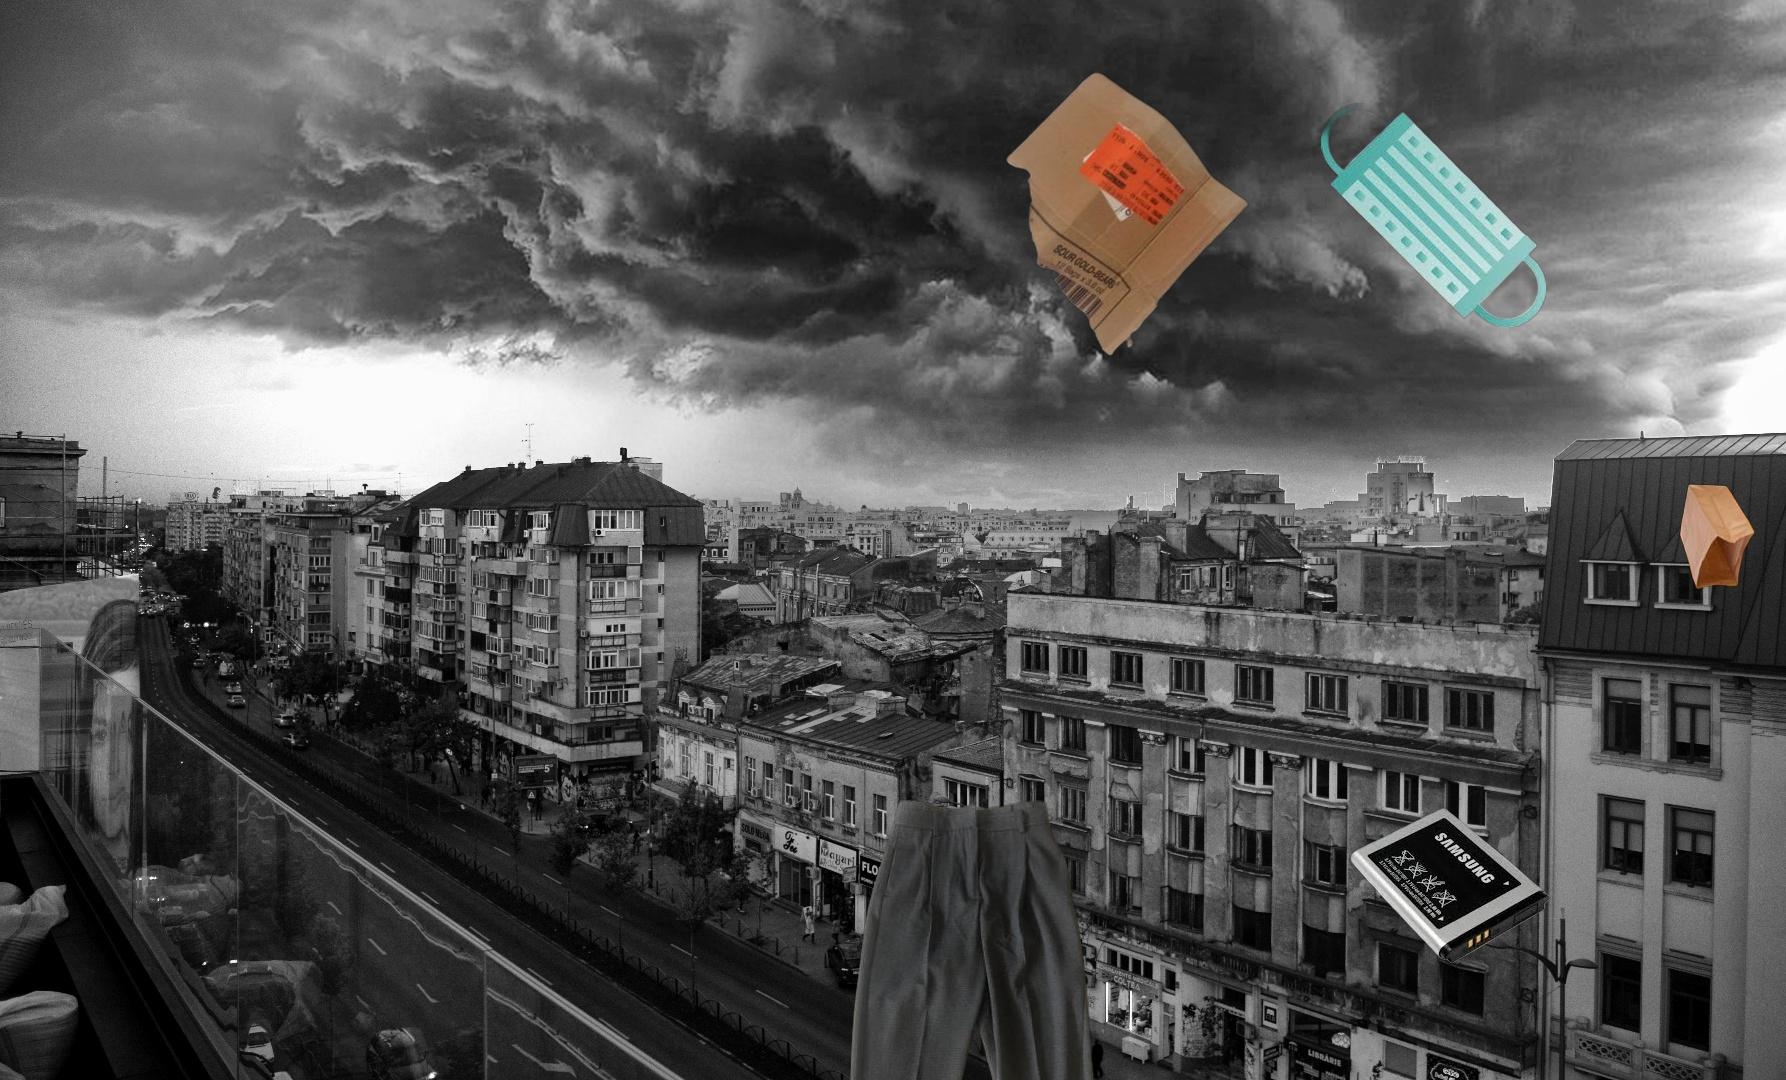battery: (1348, 805, 1553, 967)
clothes: (836, 787, 1121, 1080), (1638, 1074, 1786, 1080)
glass: (589, 1076, 683, 1080)
paper-bag: (1678, 483, 1758, 590)
trash: (1320, 103, 1546, 326)
trashbox-cardboard: (1001, 69, 1253, 360)
